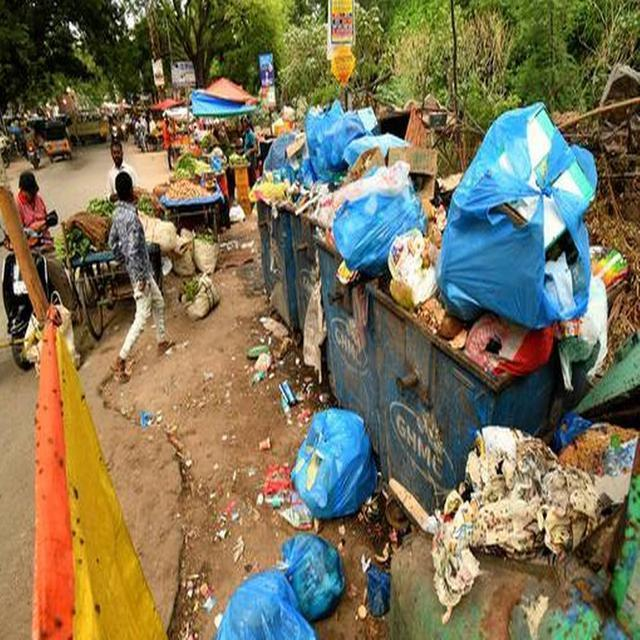garbage: (266, 99, 639, 375), (167, 316, 398, 639), (418, 399, 639, 639), (151, 214, 266, 312), (114, 389, 164, 434), (224, 197, 250, 217)
